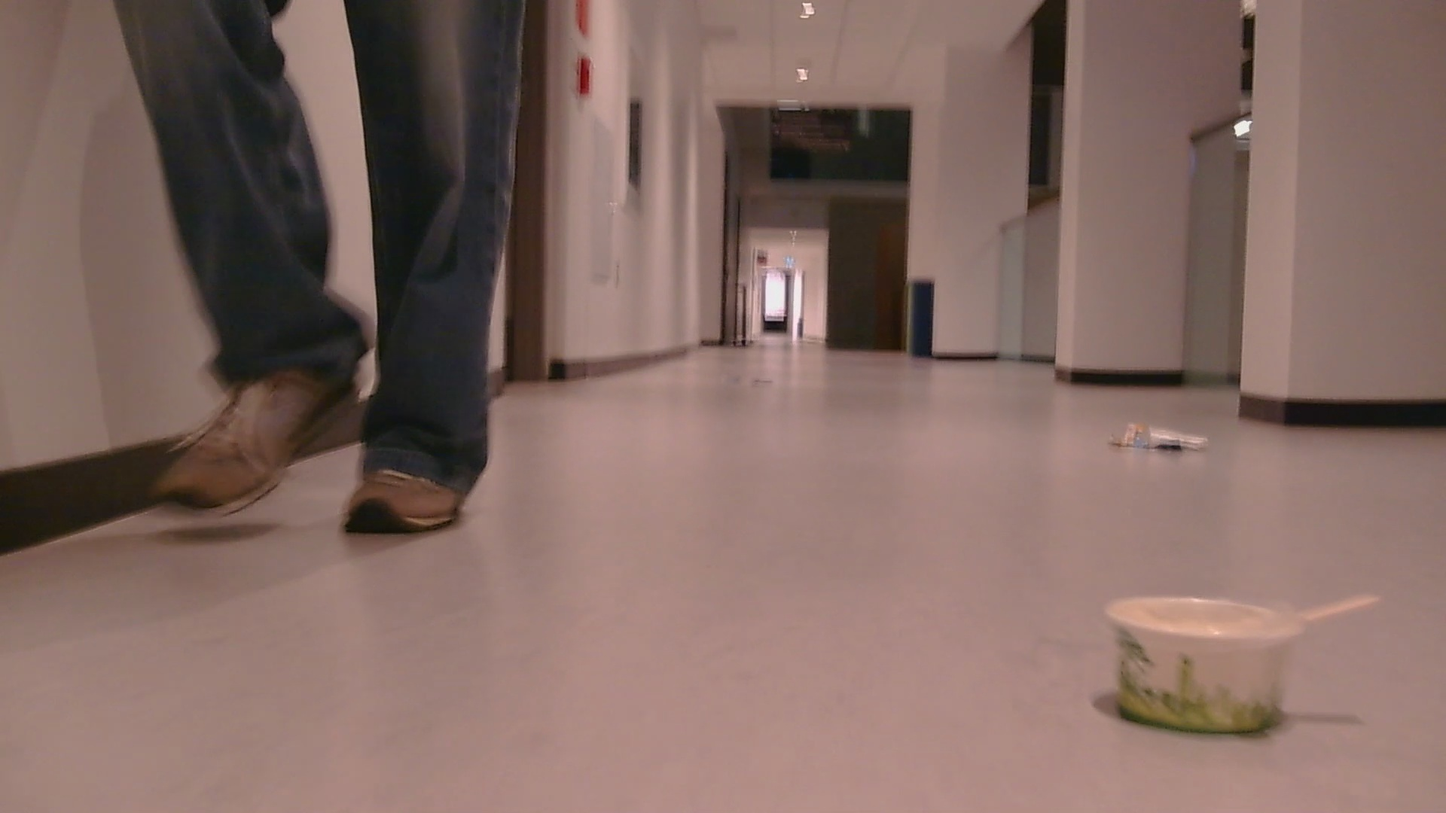carton: (1103, 575, 1381, 741), (1113, 416, 1245, 462)
